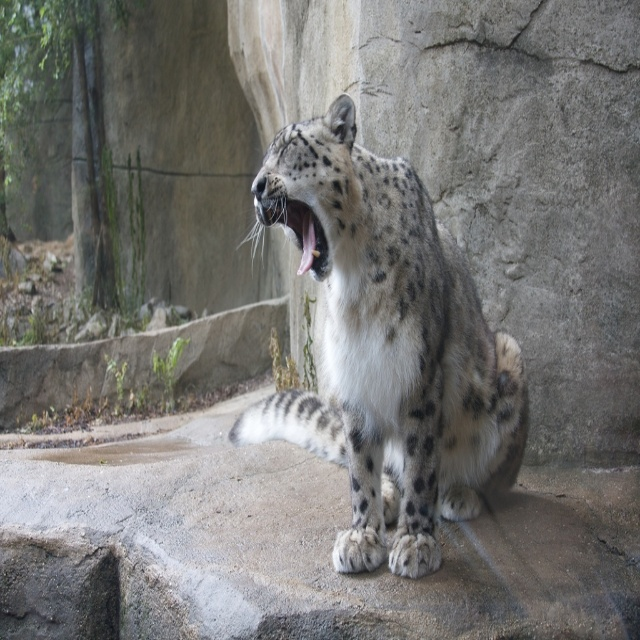Leopard: (225, 96, 530, 579)
